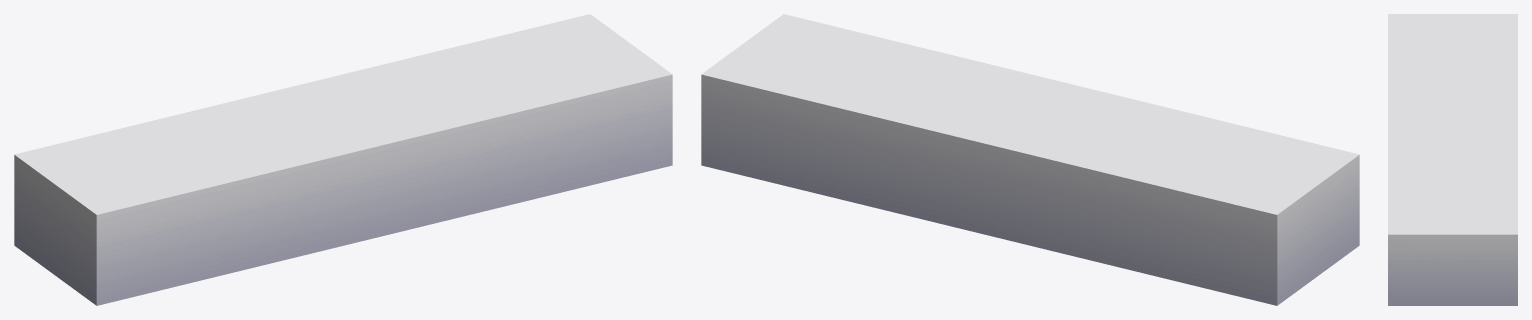
File: brick-kit--none-lq-brick-2x8.glb
3 renders of one model, left to right at view 1: azimuth 30°, elevation 25°; view 2: azimuth 150°, elevation 25°; view 3: azimuth 270°, elevation 25°, orthographic. The views are drawn at different scales.
Parts seen in each view (by area): view 1: none-lq-brick-2x8; view 2: none-lq-brick-2x8; view 3: none-lq-brick-2x8.
Boxes of the visible parts, box(x1,y1,x2,y2) form: none-lq-brick-2x8: box(14, 14, 672, 305); none-lq-brick-2x8: box(701, 14, 1359, 305); none-lq-brick-2x8: box(1388, 14, 1517, 305).
Bounding box in the file's own units: 0.636 × 0.096 × 0.158.
Materials: 1 (1 with a texture image).
